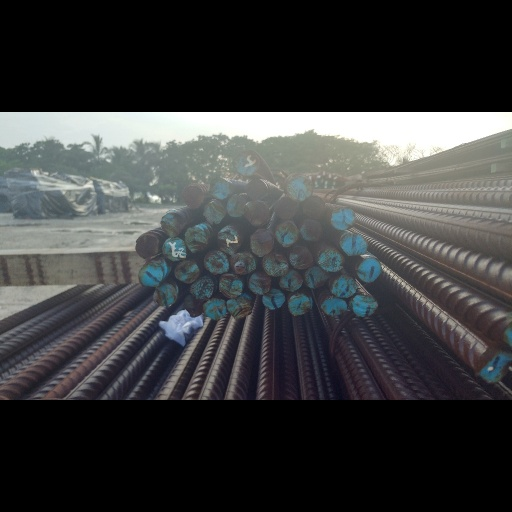dipstick: (287, 175, 314, 202), (233, 149, 260, 175), (244, 200, 270, 227), (356, 257, 382, 282), (218, 273, 243, 299), (331, 274, 358, 298), (250, 228, 273, 256), (340, 233, 367, 256), (318, 249, 345, 272), (303, 194, 327, 219), (277, 268, 302, 292), (274, 221, 298, 246), (274, 195, 299, 219), (134, 235, 160, 258), (331, 206, 355, 230), (289, 246, 313, 270), (206, 251, 230, 275), (138, 263, 162, 287), (153, 283, 177, 307), (263, 253, 288, 276), (230, 251, 255, 274), (160, 212, 183, 237), (163, 237, 186, 262), (351, 294, 377, 316), (184, 227, 206, 253), (216, 232, 241, 254), (226, 298, 251, 320), (189, 277, 214, 299), (319, 297, 347, 316), (202, 202, 225, 225), (299, 220, 323, 242), (287, 294, 311, 316), (244, 179, 268, 201), (175, 261, 199, 283), (303, 266, 328, 287), (182, 184, 203, 209), (249, 271, 271, 294), (203, 299, 227, 320), (226, 194, 247, 217), (262, 288, 285, 309), (209, 176, 229, 199), (185, 293, 203, 317)
